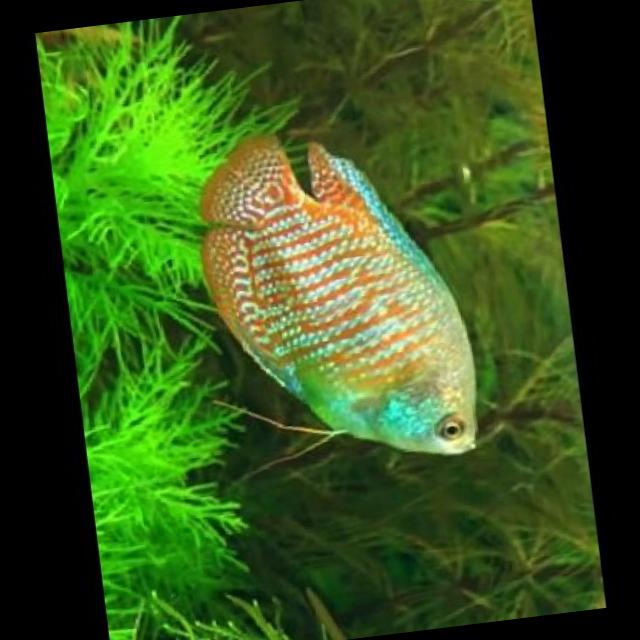Gourami: (183, 109, 492, 486)
